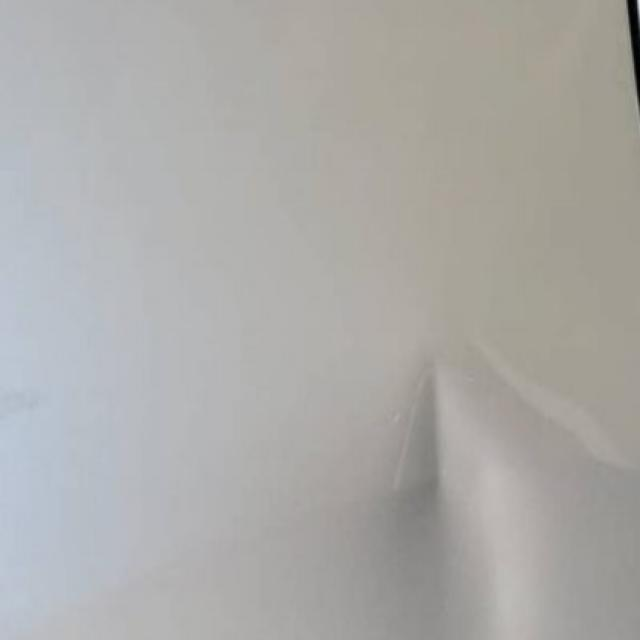dents: (398, 340, 490, 565)
